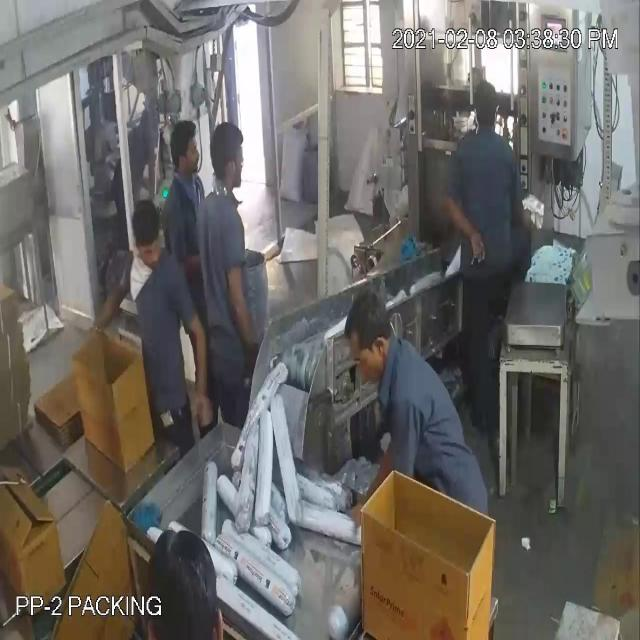No_Gloves: (50, 94, 470, 362)
